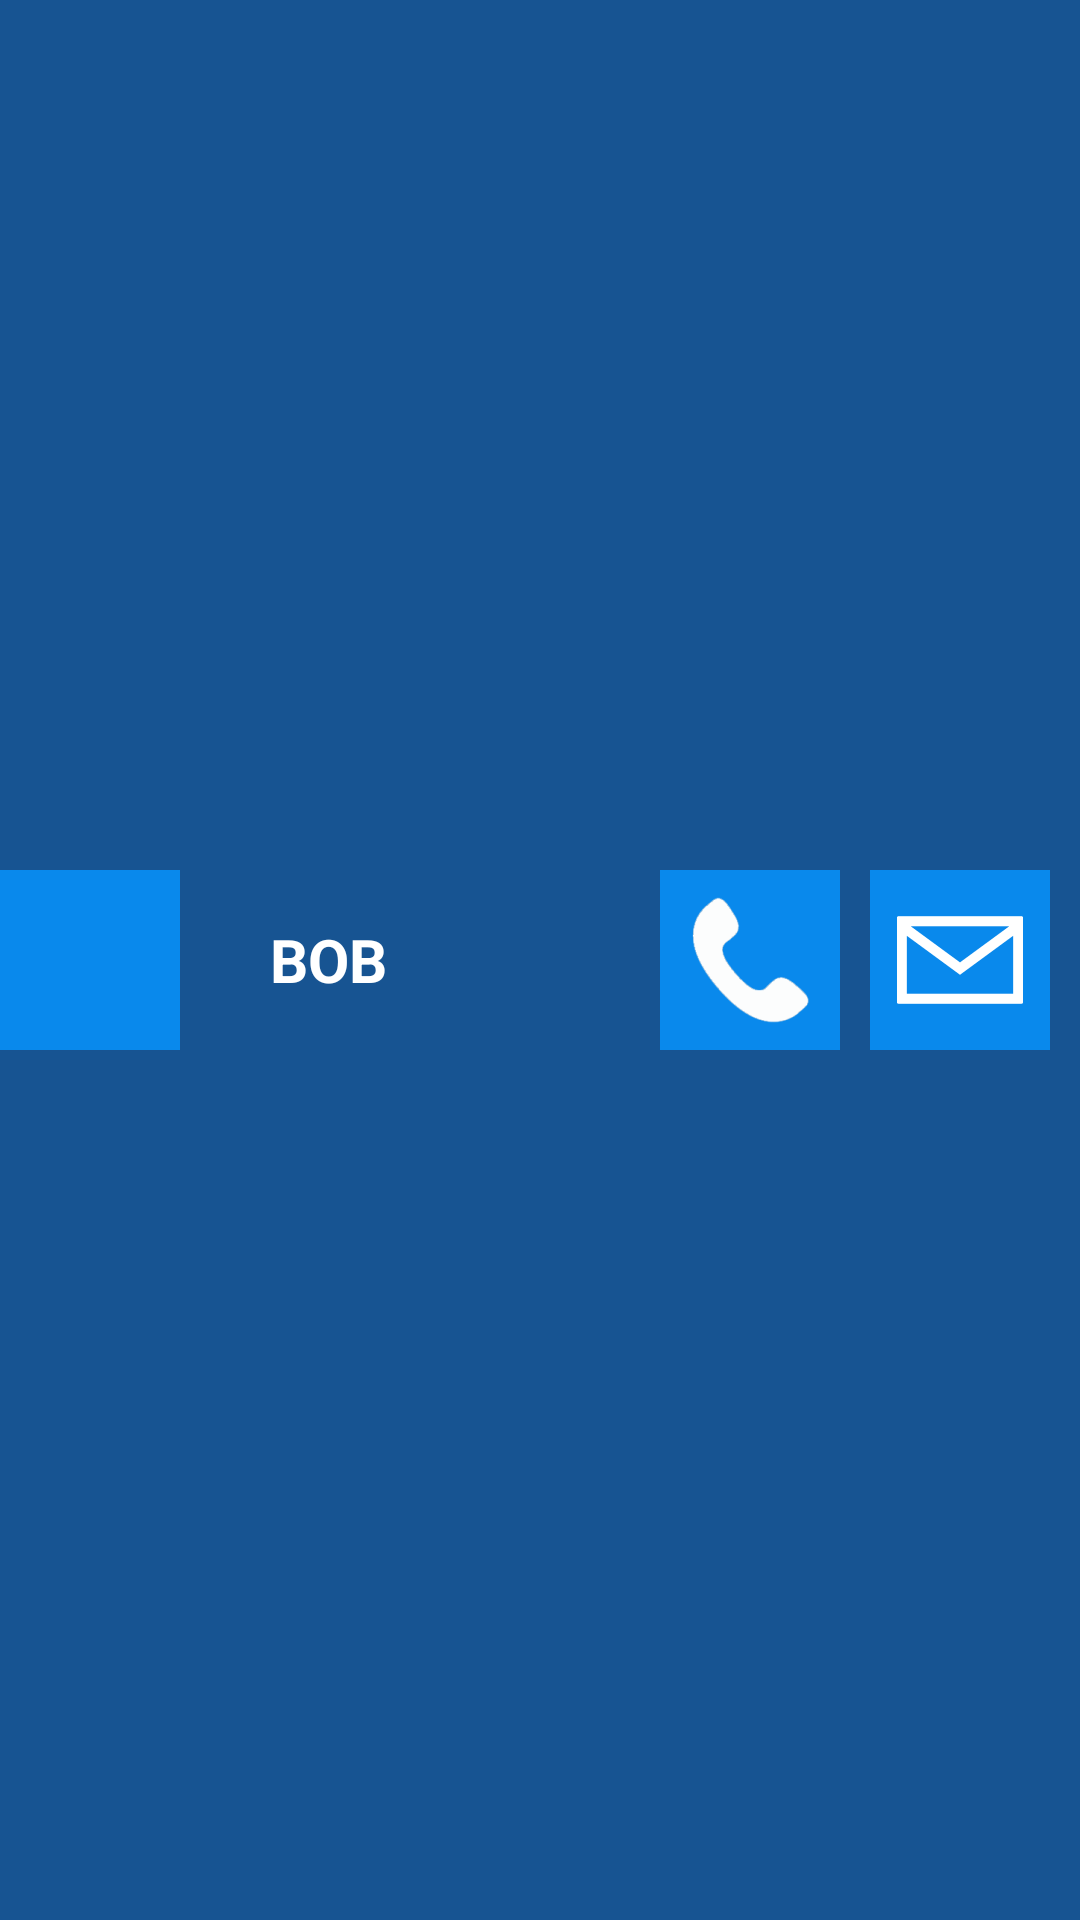

Icons on this 1080x1920 Android screen, each with its box as [x1=x1, y1=y1, x2=x2, y2=y2]:
message: [x1=870, y1=870, x2=1050, y2=1050]
tel: [x1=660, y1=870, x2=840, y2=1050]
